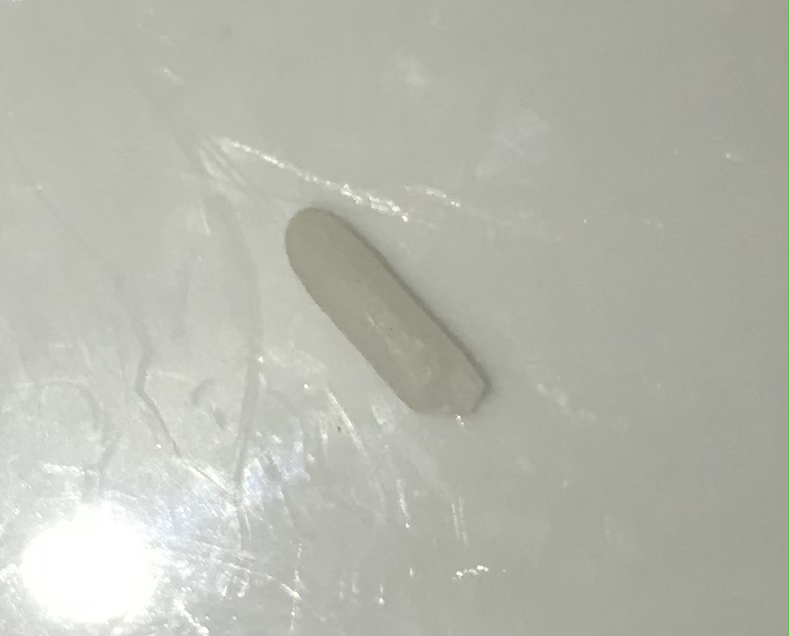Gao Thom Go Cong: (275, 183, 509, 441)
